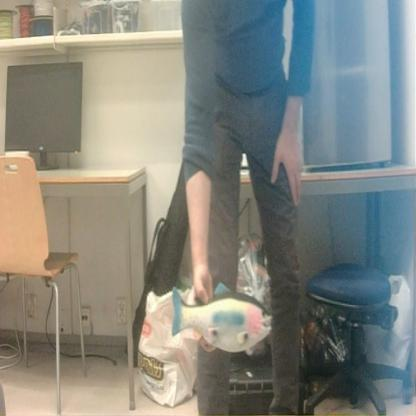rubberfish: (168, 277, 274, 364)
